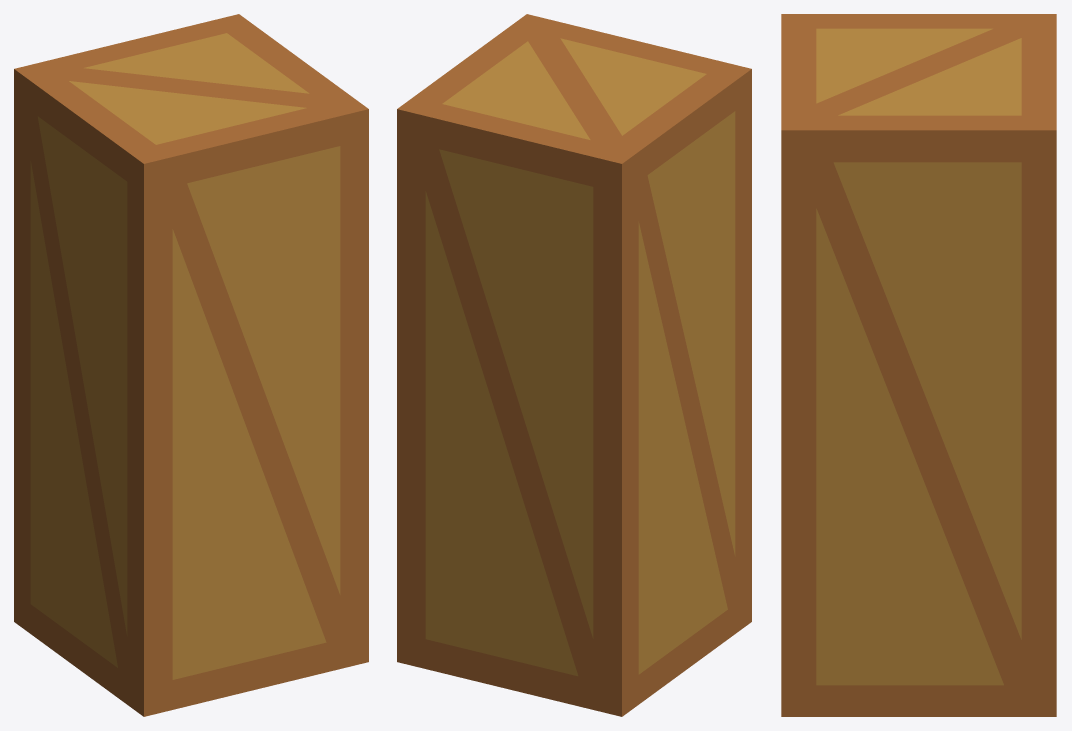
File: Box Talll.FBX
3 views of the same model, side by side, from view 1: azimuth 30°, elevation 25°; view 2: azimuth 150°, elevation 25°; view 3: azimuth 270°, elevation 25° (orthographic). The views are drawn at different scales.
Visible parts, largest first — view 1: Object026; view 2: Object026; view 3: Object026.
Part boxes in pixels (left/top/right/bottom): Object026: left=14, top=14, right=368, bottom=716; Object026: left=397, top=14, right=751, bottom=716; Object026: left=781, top=14, right=1056, bottom=716.
Size of the model in its own units: 112 by 263 by 112.
